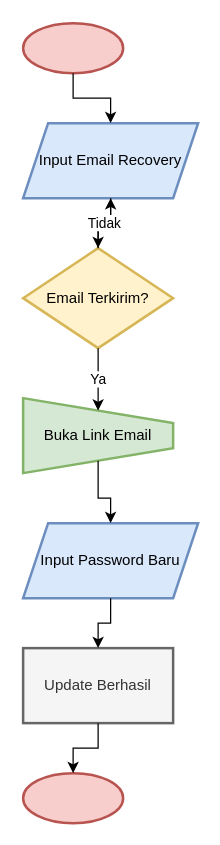
Image size: 220x845. Some labels were removed from this diagram. The centre of each missing label's shape, as x and y in pixels:
"Mulai" goes at (72,47).
"Selesai" goes at (72,797).
